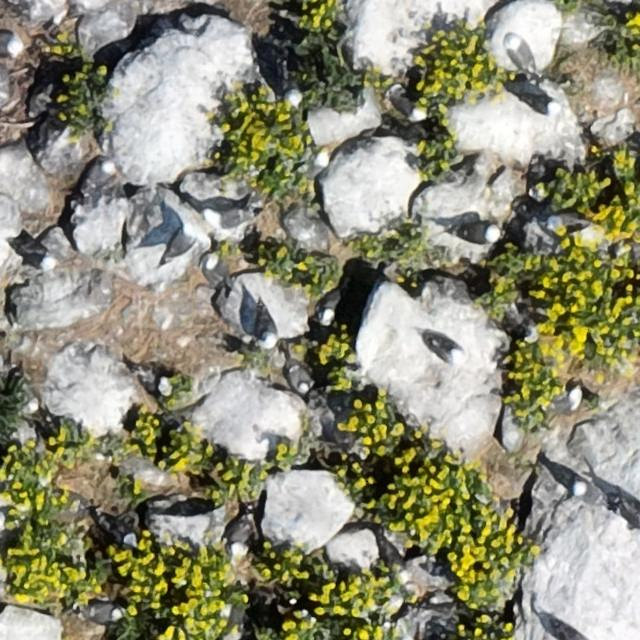umineko: (9, 228, 56, 273), (547, 455, 590, 500), (77, 158, 118, 204), (380, 539, 417, 584), (501, 33, 538, 76), (320, 286, 351, 330), (303, 147, 334, 187), (200, 252, 235, 287), (105, 516, 141, 549), (202, 209, 258, 227), (390, 92, 421, 119), (520, 92, 556, 114), (83, 604, 121, 624), (455, 224, 497, 242), (228, 520, 250, 554), (138, 370, 170, 393), (428, 337, 458, 360), (258, 313, 276, 348), (166, 233, 194, 255), (288, 366, 310, 392), (558, 623, 590, 640), (2, 34, 22, 56), (566, 388, 582, 412)
